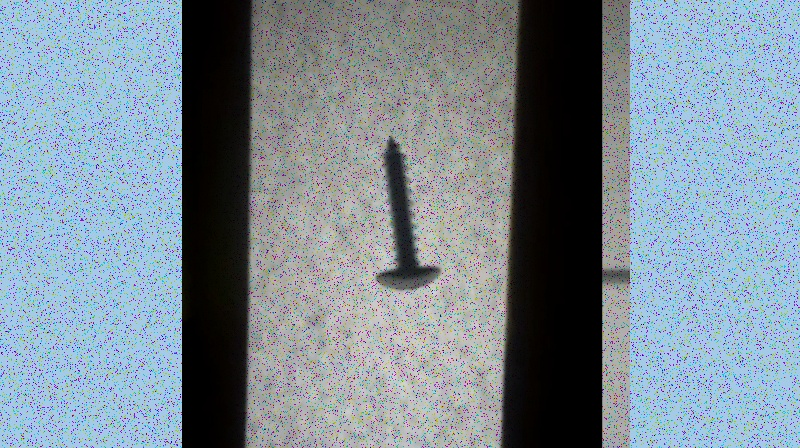S003: (370, 131, 441, 294)
